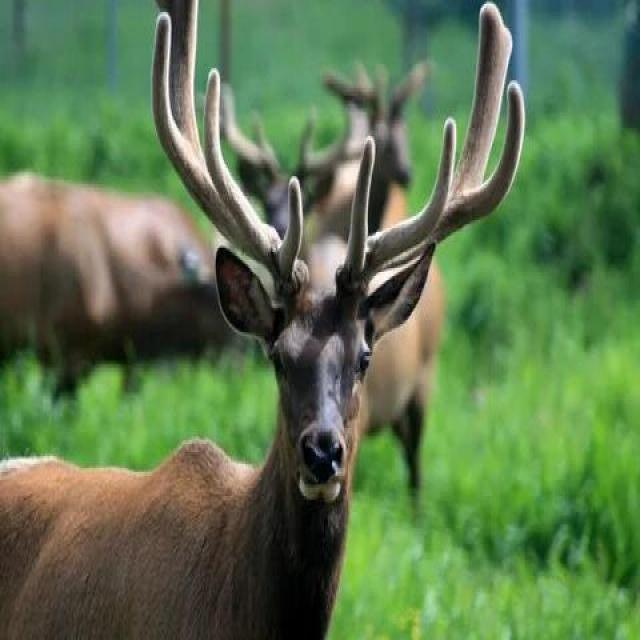deer: (132, 66, 480, 587)
